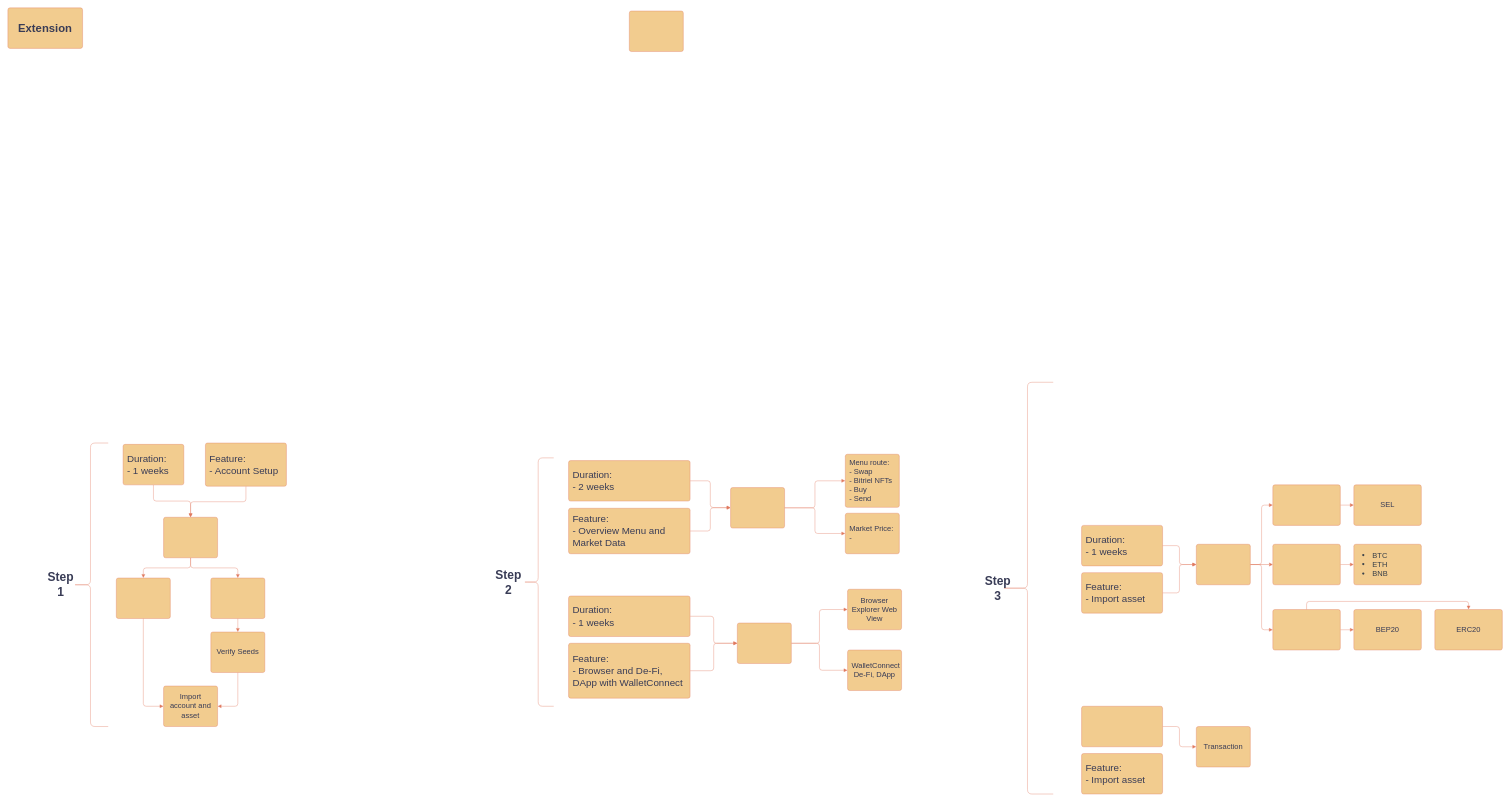
This 1510x802 diagram has some shape labels left out. The shapes that lost their labels are listed below. From the top down, each one's centre as x and y in pixels, then its label:
At point 656,31: "Sdk".
At point 757,507: "Home Screen".
At point 1306,504: "Native Token".
At point 190,537: "Welcome".
At point 1223,564: "Wallet".
At point 1306,564: "Support Token".
At point 143,598: "Import".
At point 237,598: "Create".
At point 764,643: "Discover".
At point 1306,629: "Import asset".
At point 1122,726: "Duration: - 5 Day".
